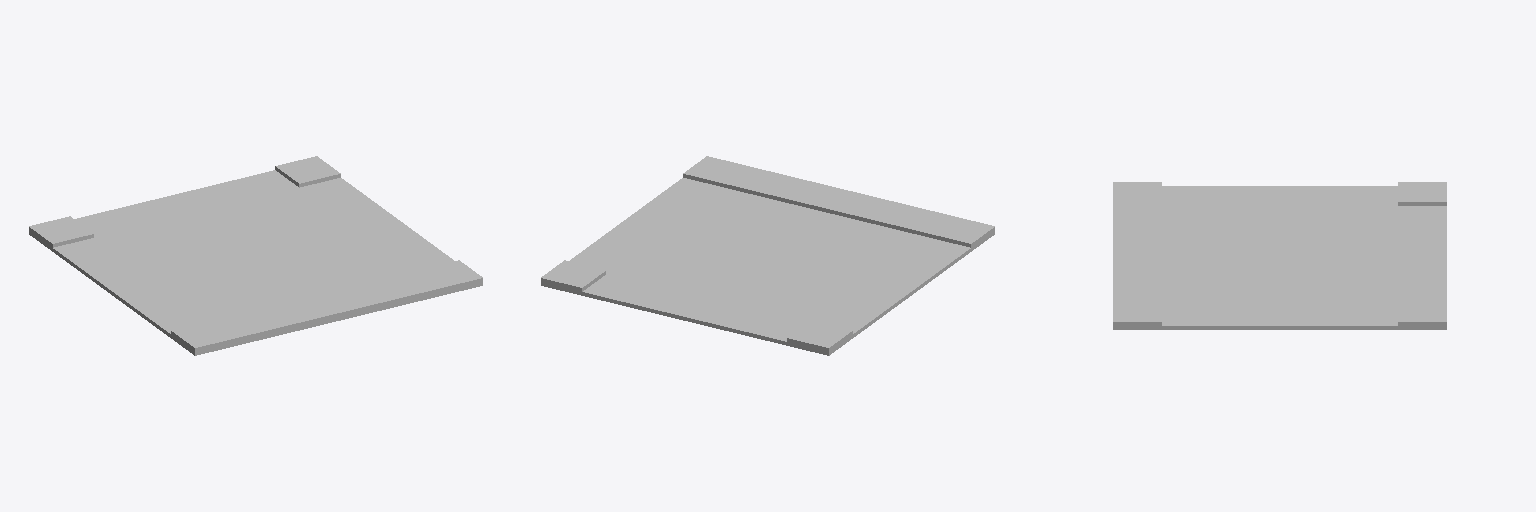
File: road3.obj
3 views of the same model, side by side, from view 1: azimuth 30°, elevation 25°; view 2: azimuth 150°, elevation 25°; view 3: azimuth 270°, elevation 25° (orthographic).
Parts seen in each view (by area): view 1: road3_Plane.002; view 2: road3_Plane.002; view 3: road3_Plane.002.
Boxes of the visible parts, box(x1,y1,x2,y2) form: road3_Plane.002: box(29, 156, 482, 355); road3_Plane.002: box(541, 156, 994, 355); road3_Plane.002: box(1113, 182, 1446, 329).
Bounding box in the file's own units: 9.73 × 0.25 × 9.73.